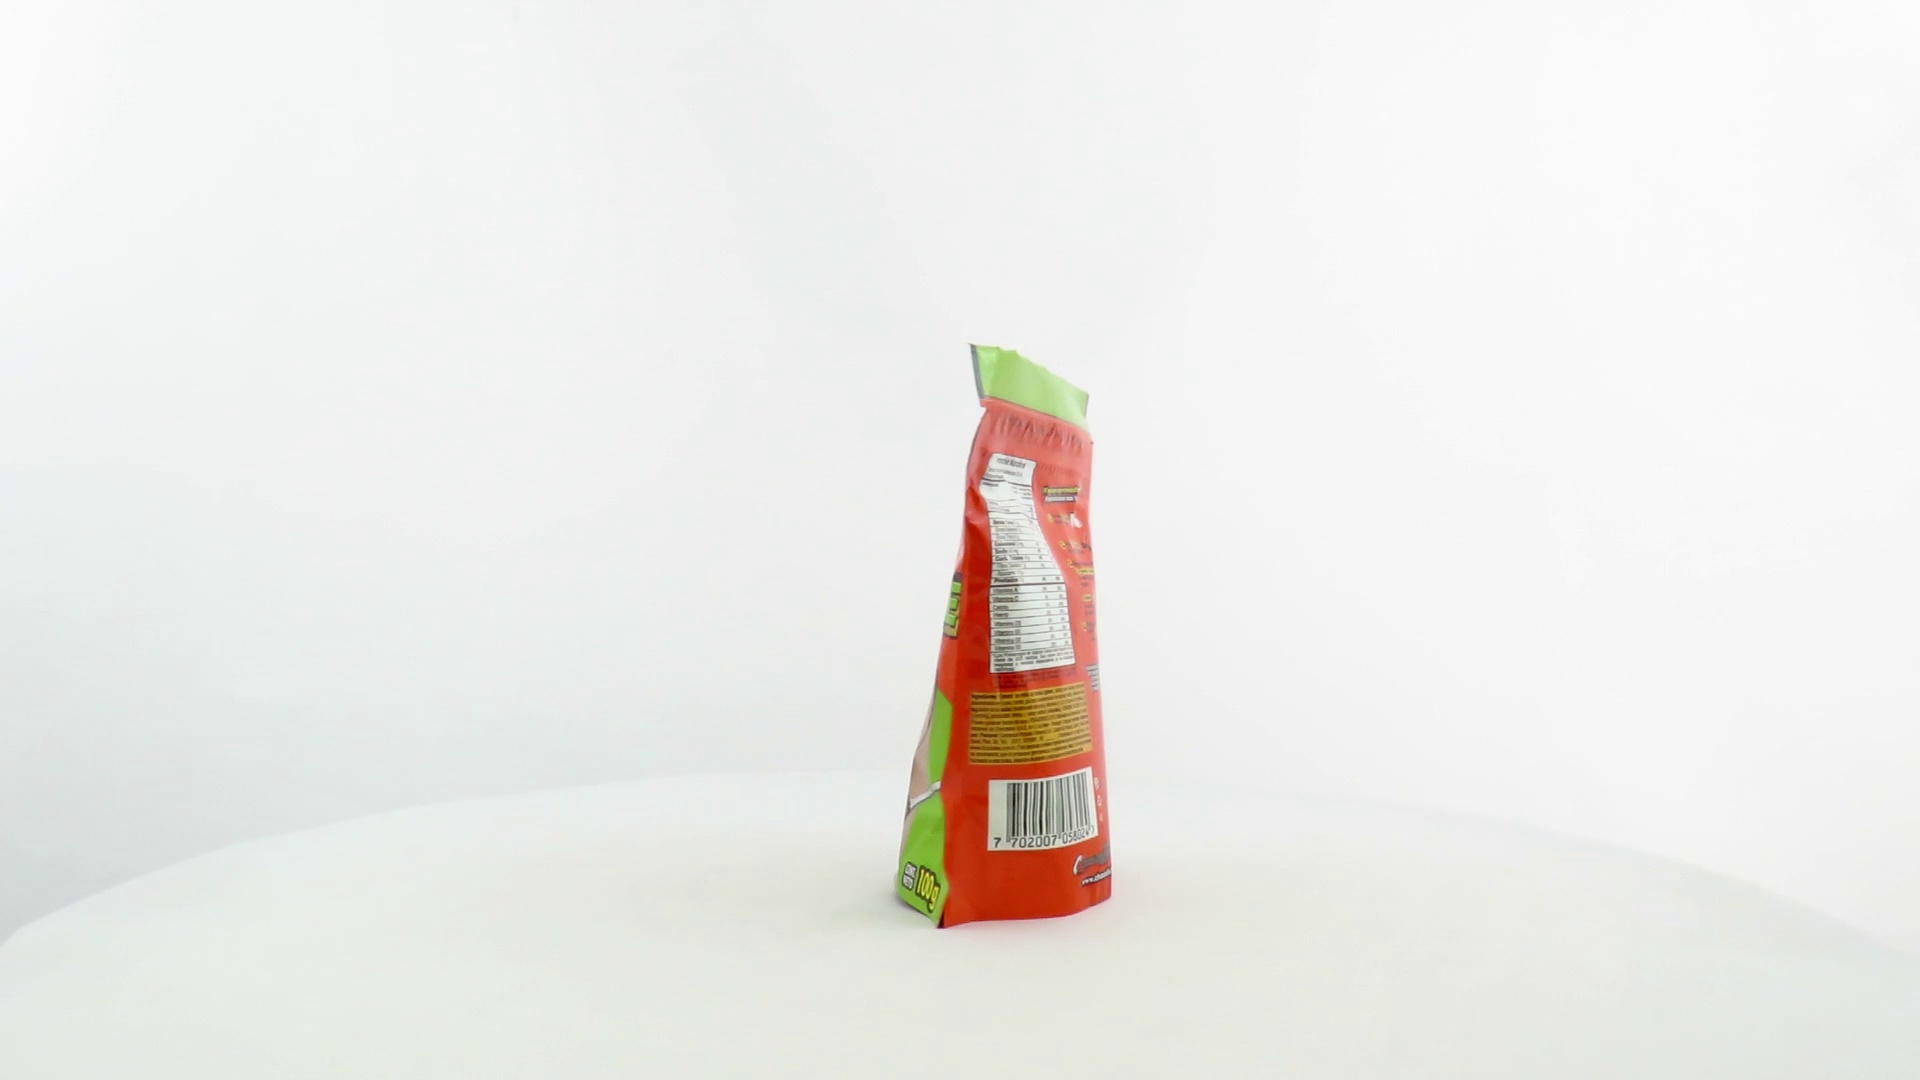COL0170102DYP10000: (891, 338, 1118, 935)
